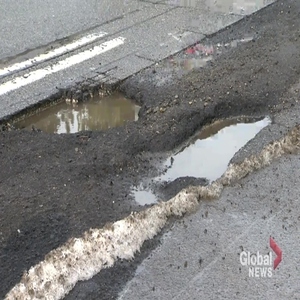pothole: (156, 105, 275, 179), (1, 81, 149, 137)
